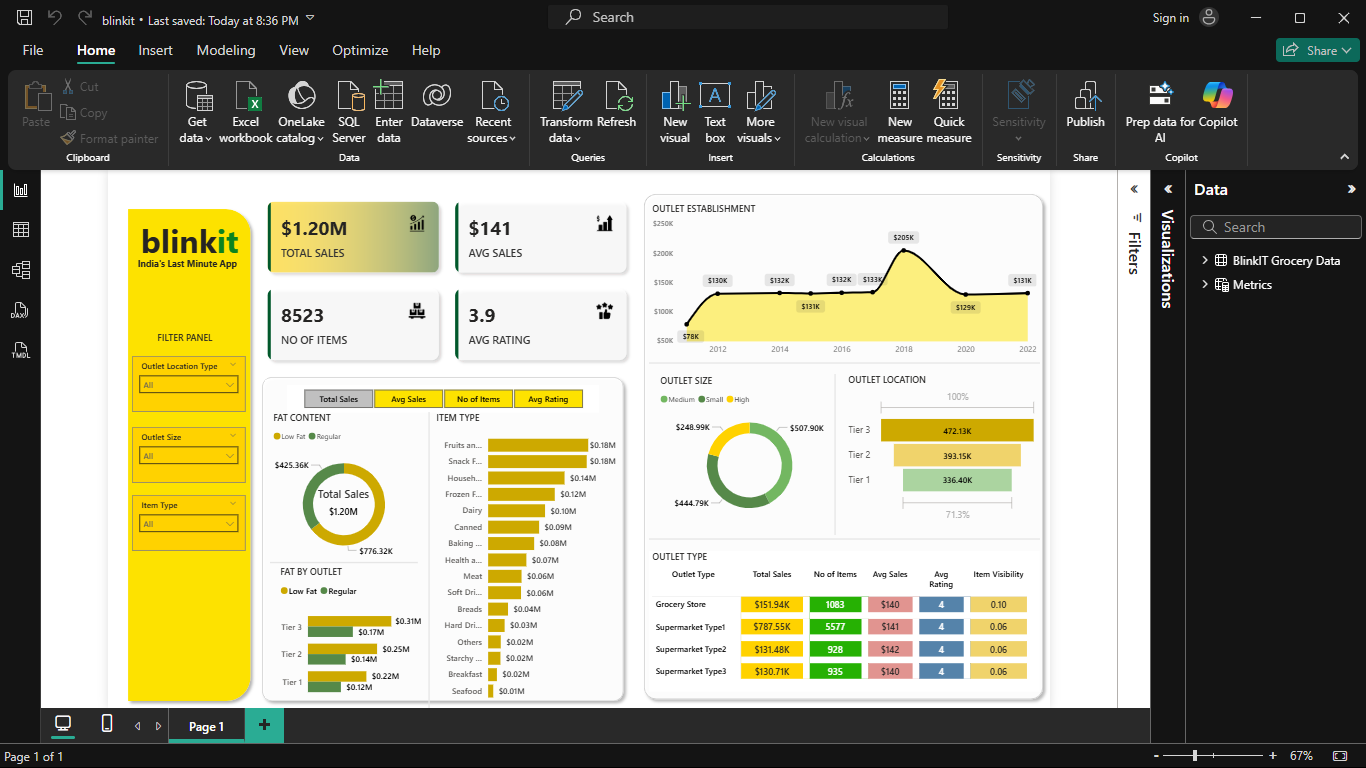

Layout of this report page (visuals, bound fields, positions):
{"tool":"powerbi","page":{"name":"Page 1","canvas":[1400,800],"ordinal":0},"visuals":[{"type":"shape","box":[20.2,49.6,200.3,749.6],"z":0},{"type":"textbox","box":[36.7,49.6,169,104.7],"z":1000},{"type":"textbox","box":[36.7,124.9,161.7,29.4],"z":2000},{"type":"cardVisual","fields":{"Data":["BlinkIT Grocery Data.Total Sales","BlinkIT Grocery Data.Avg Sales","BlinkIT Grocery Data.No of Items","BlinkIT Grocery Data.Avg Rating"]},"box":[220.5,29.4,569.6,270.1],"z":3000},{"type":"shape","box":[219.8,299.6,555.5,499.8],"z":4000},{"type":"donutChart","title":"FAT CONTENT","fields":{"Y":["BlinkIT Grocery Data.Total Sales"],"Category":["BlinkIT Grocery Data.Item Fat Content"]},"box":[240.9,359.8,219.8,230.3],"z":5000},{"type":"slicer","fields":{"Values":["Metrics.Metrics"]},"box":[266.5,319.1,463.7,40.6],"z":6000},{"type":"cardVisual","fields":{"Data":["BlinkIT Grocery Data.Total Sales"]},"box":[286,453.1,129.5,78.3],"z":7000},{"type":"clusteredBarChart","title":"FAT BY OUTLET","fields":{"Y":["BlinkIT Grocery Data.Total Sales"],"Category":["BlinkIT Grocery Data.Outlet Location Type"],"Series":["BlinkIT Grocery Data.Item Fat Content"]},"box":[251.4,589.2,219.8,210.8],"z":8000},{"type":"shape","box":[240.9,578.1,219.8,10.5],"z":9000},{"type":"shape","box":[471.2,359.8,12,439.6],"z":10000},{"type":"barChart","title":"ITEM TYPE","fields":{"Y":["BlinkIT Grocery Data.Total Sales"],"Category":["BlinkIT Grocery Data.Item Type"]},"box":[483.2,359.8,277,439.6],"z":11000},{"type":"shape","box":[788.8,27.1,611.2,769.2],"z":12000},{"type":"lineChart","title":"OUTLET ESTABLISHMENT","fields":{"Y":["BlinkIT Grocery Data.Total Sales"],"Category":["BlinkIT Grocery Data.Outlet Establishment Year"]},"box":[803.9,49.7,581.1,234.8],"z":13000},{"type":"shape","box":[803.9,284.5,581.1,6],"z":14000},{"type":"donutChart","title":"OUTLET SIZE","fields":{"Y":["BlinkIT Grocery Data.Total Sales"],"Category":["BlinkIT Grocery Data.Outlet Size"]},"box":[815.9,304.7,275.5,224.3],"z":15000},{"type":"shape","box":[1074.8,304.1,12,239.4],"z":16000},{"type":"funnel","title":"OUTLET LOCATION","fields":{"Y":["Sum(BlinkIT Grocery Data.Sales)"],"Category":["BlinkIT Grocery Data.Outlet Location Type"]},"box":[1095.9,304.1,290.5,224.3],"z":17000},{"type":"shape","box":[803.9,546.5,581.1,6],"z":18000},{"type":"pivotTable","title":"OUTLET TYPE","fields":{"Rows":["BlinkIT Grocery Data.Outlet Type"],"Values":["BlinkIT Grocery Data.Total Sales","BlinkIT Grocery Data.No of Items","BlinkIT Grocery Data.Avg Sales","BlinkIT Grocery Data.Avg Rating","Avg(BlinkIT Grocery Data.Item Visibility)"]},"box":[803.9,566,581.1,209.2],"z":19000},{"type":"slicer","fields":{"Values":["BlinkIT Grocery Data.Outlet Location Type"]},"box":[36.1,277,168.6,82.8],"z":20000},{"type":"slicer","fields":{"Values":["BlinkIT Grocery Data.Outlet Size"]},"box":[36.1,382.4,168.6,82.8],"z":21000},{"type":"slicer","fields":{"Values":["BlinkIT Grocery Data.Item Type"]},"box":[36.1,483.2,168.6,82.8],"z":22000},{"type":"textbox","box":[67.7,234.8,103.9,28.6],"z":22001}]}

Visuals, with their boxes on the page's 1400x800 design canvas (x1, y1, x2, y2). These are canvas units, not pixel positions in the 1366x768 screenshot, which may show the page scaled, cropped or inside an application window:
shape: l=20, t=50, r=220, b=799
textbox: l=37, t=50, r=206, b=154
textbox: l=37, t=125, r=198, b=154
cardVisual - BlinkIT Grocery Data.Total Sales x BlinkIT Grocery Data.Avg Sales: l=220, t=29, r=790, b=300
shape: l=220, t=300, r=775, b=799
"FAT CONTENT" donutChart: l=241, t=360, r=461, b=590
slicer - Metrics.Metrics: l=266, t=319, r=730, b=360
cardVisual - BlinkIT Grocery Data.Total Sales: l=286, t=453, r=416, b=531
"FAT BY OUTLET" clusteredBarChart: l=251, t=589, r=471, b=800
shape: l=241, t=578, r=461, b=589
shape: l=471, t=360, r=483, b=799
"ITEM TYPE" barChart: l=483, t=360, r=760, b=799
shape: l=789, t=27, r=1400, b=796
"OUTLET ESTABLISHMENT" lineChart: l=804, t=50, r=1385, b=284
shape: l=804, t=284, r=1385, b=290
"OUTLET SIZE" donutChart: l=816, t=305, r=1091, b=529
shape: l=1075, t=304, r=1087, b=544
"OUTLET LOCATION" funnel: l=1096, t=304, r=1386, b=528
shape: l=804, t=546, r=1385, b=552
"OUTLET TYPE" pivotTable: l=804, t=566, r=1385, b=775
slicer - BlinkIT Grocery Data.Outlet Location Type: l=36, t=277, r=205, b=360
slicer - BlinkIT Grocery Data.Outlet Size: l=36, t=382, r=205, b=465
slicer - BlinkIT Grocery Data.Item Type: l=36, t=483, r=205, b=566
textbox: l=68, t=235, r=172, b=263
